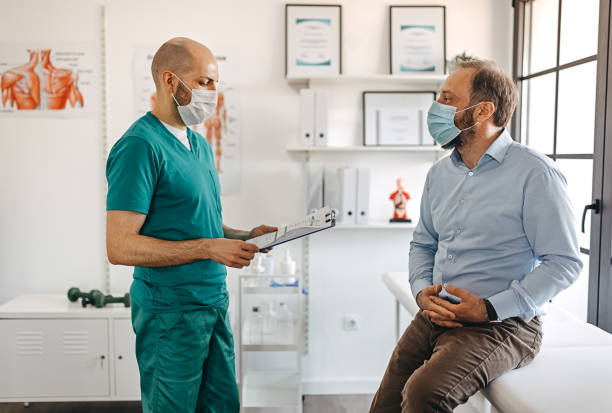with mask: (421, 51, 502, 149), (146, 30, 221, 131)
